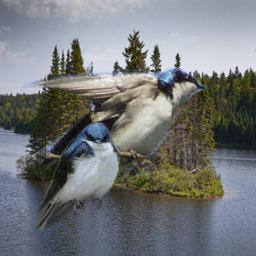Swallow: (21, 66, 206, 207), (33, 121, 122, 231)
